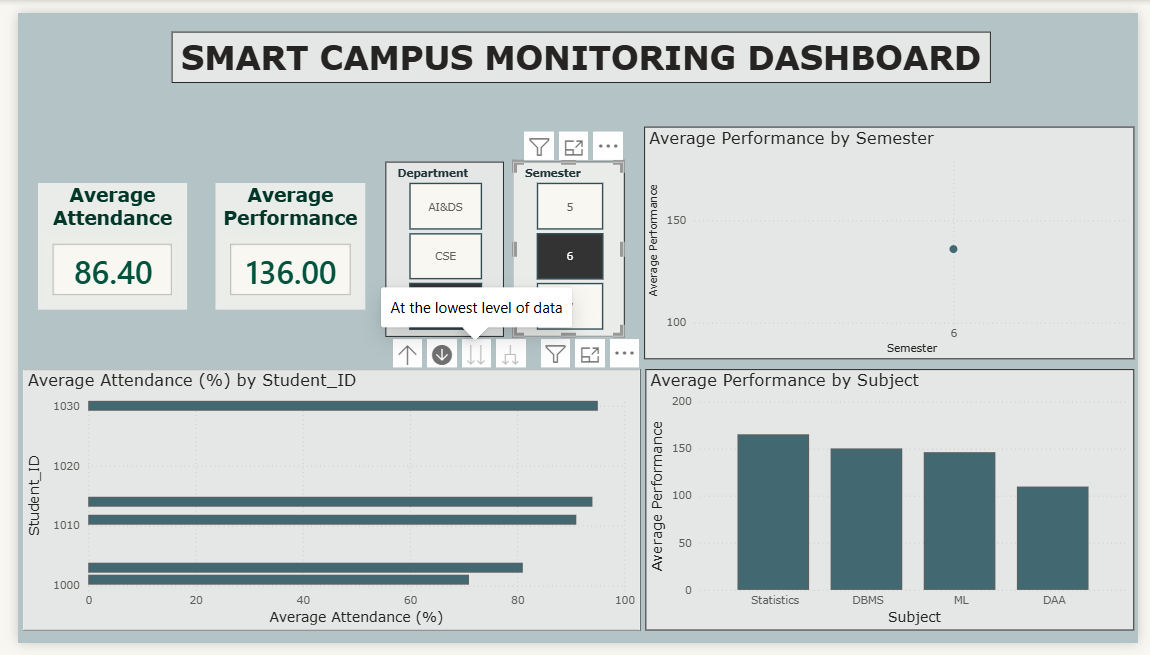

Layout of this report page (visuals, bound fields, positions):
{"tool":"powerbi","page":{"name":"Page 1","canvas":[1280,720],"ordinal":0},"visuals":[{"type":"cardVisual","title":"Average Attendance","fields":{"Data":["5 student_performance.Average Attendance (%)"]},"box":[23.2,194.3,170,145],"z":0},{"type":"clusteredBarChart","fields":{"Category":["5 student_performance.Department","5 student_performance.Subject","5 student_performance.Student_ID"],"Y":["5 student_performance.Average Attendance (%)"]},"box":[5.7,407.1,705.7,298.6],"z":1000},{"type":"clusteredColumnChart","fields":{"Category":["5 student_performance.Subject"],"Y":["5 student_performance.Average Performance"]},"box":[717.1,407.1,558.6,298.6],"z":2000},{"type":"lineChart","fields":{"Category":["5 student_performance.Semester"],"Y":["5 student_performance.Average Performance"]},"box":[715.7,130.6,560,265.7],"z":3000},{"type":"slicer","fields":{"Values":["5 student_performance.Department"]},"box":[420,169.4,135,200],"z":4000},{"type":"textbox","box":[175.7,21.4,935.7,58.6],"z":5000},{"type":"cardVisual","title":"Average Performance","fields":{"Data":["5 student_performance.Average Performance"]},"box":[225.7,194.3,171.2,145],"z":6000},{"type":"slicer","fields":{"Values":["5 student_performance.Semester"]},"box":[565.7,169.6,127.8,200],"z":7000}]}

Visuals, with their boxes in screenshot pixels (x1, y1, x2, y2), scaled from the page's 1280x720 canvas onto the 1150x655 screenshot:
"Average Attendance" cardVisual: detection(21, 177, 174, 309)
clusteredBarChart - 5 student_performance.Department x 5 student_performance.Subject: detection(5, 370, 639, 642)
clusteredColumnChart - 5 student_performance.Subject x 5 student_performance.Average Performance: detection(644, 370, 1146, 642)
lineChart - 5 student_performance.Semester x 5 student_performance.Average Performance: detection(643, 119, 1146, 361)
slicer - 5 student_performance.Department: detection(377, 154, 499, 336)
textbox: detection(158, 19, 999, 73)
"Average Performance" cardVisual: detection(203, 177, 357, 309)
slicer - 5 student_performance.Semester: detection(508, 154, 623, 336)
